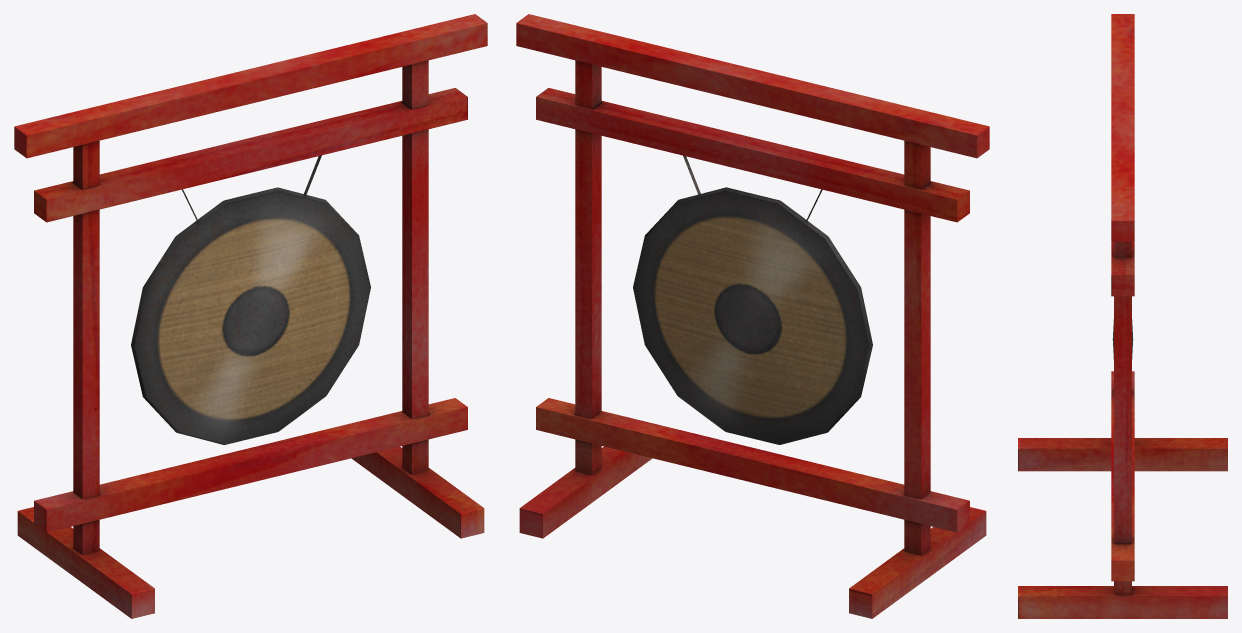
The model's file is gong.fbx.
The picture shows the model from 3 angles, left to right: view 1: azimuth 30°, elevation 25°; view 2: azimuth 150°, elevation 25°; view 3: azimuth 270°, elevation 25°; orthographic projection. The views are drawn at different scales.
Parts seen in each view (by area): view 1: gong; view 2: gong; view 3: gong.
Part boxes in pixels (box(x1,y1,x2,y2)): gong: box(14, 14, 487, 618); gong: box(516, 14, 989, 618); gong: box(1018, 14, 1227, 618).
Bounding box in the file's own units: 14 × 13.33 × 6.
